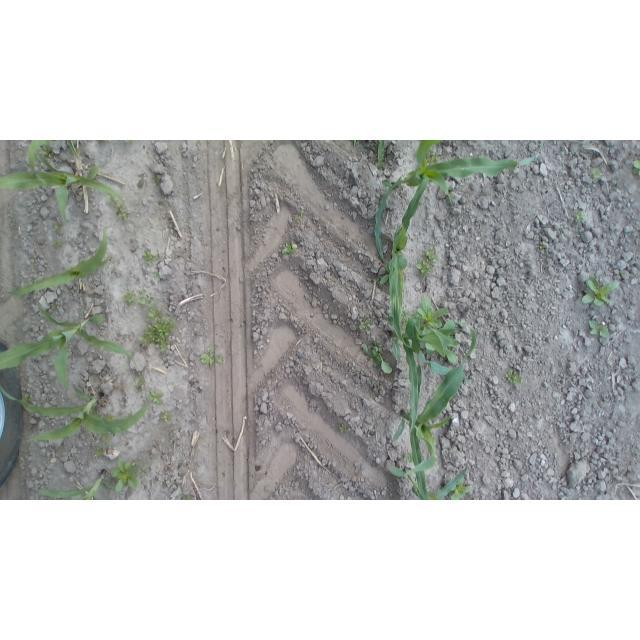Maize: (373, 142, 545, 261), (387, 321, 478, 500), (1, 301, 139, 393), (1, 149, 126, 224), (391, 312, 464, 437), (1, 385, 151, 443), (7, 225, 111, 295), (390, 177, 430, 350), (400, 460, 468, 500), (34, 468, 116, 500), (415, 141, 443, 170), (25, 140, 49, 172), (67, 141, 81, 162), (376, 141, 386, 170), (353, 140, 358, 146)
Weeds: (139, 307, 175, 353), (579, 271, 619, 307), (359, 338, 393, 374), (109, 456, 140, 494), (418, 296, 449, 328), (416, 246, 440, 278), (123, 287, 154, 306), (199, 347, 224, 369), (587, 320, 609, 339), (452, 481, 471, 500), (505, 368, 523, 386), (141, 250, 159, 267), (147, 388, 166, 404), (357, 319, 375, 334), (279, 243, 297, 256), (589, 165, 604, 180), (135, 375, 146, 391), (574, 207, 585, 223), (40, 145, 52, 159), (631, 157, 640, 174), (115, 206, 127, 218), (22, 393, 36, 403), (293, 208, 303, 221), (160, 410, 170, 422), (152, 174, 161, 187), (92, 447, 102, 458), (108, 196, 119, 206), (179, 494, 196, 500), (100, 436, 112, 444), (403, 453, 412, 463), (152, 270, 161, 279), (338, 424, 347, 433), (54, 221, 62, 231), (538, 241, 546, 251), (53, 241, 63, 248), (619, 271, 625, 276), (123, 141, 133, 144)
